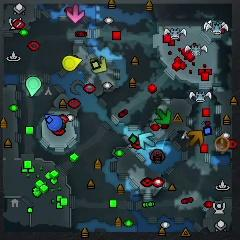Other: (215, 136, 229, 152)
p1: (44, 113, 62, 131)
p2: (26, 76, 41, 96)
p4: (62, 55, 82, 72)
x1: (66, 3, 85, 24)
x2: (91, 57, 107, 73)
x3: (139, 132, 154, 148)
x4: (155, 109, 171, 124)
x5: (188, 130, 204, 147)
